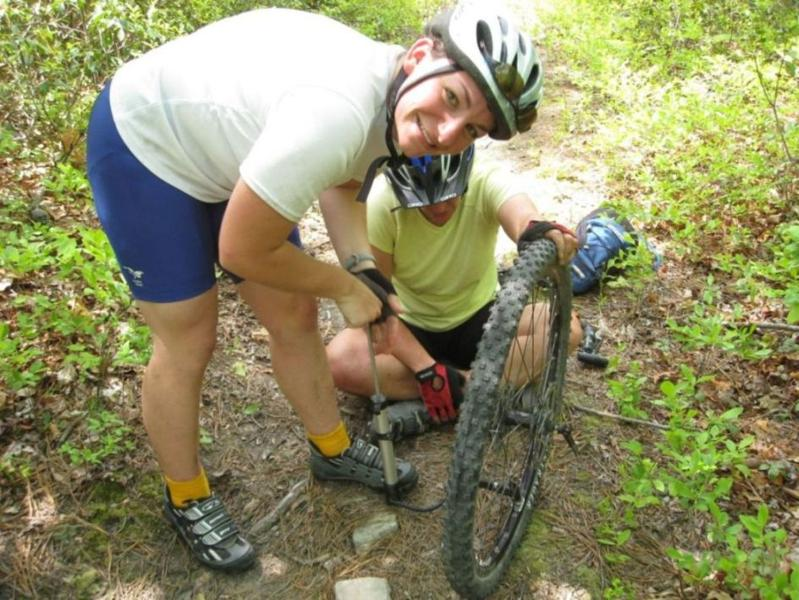person: (88, 7, 546, 577)
